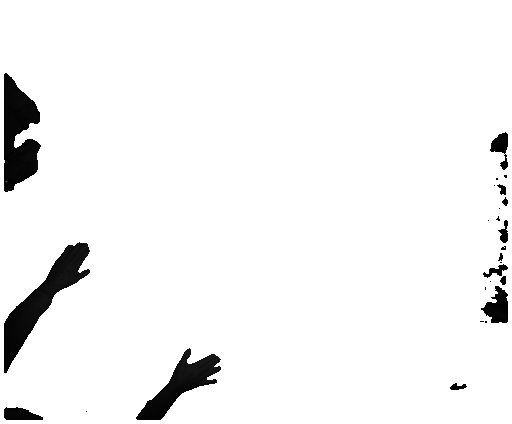hand: (46, 240, 95, 290), (175, 344, 223, 394)
